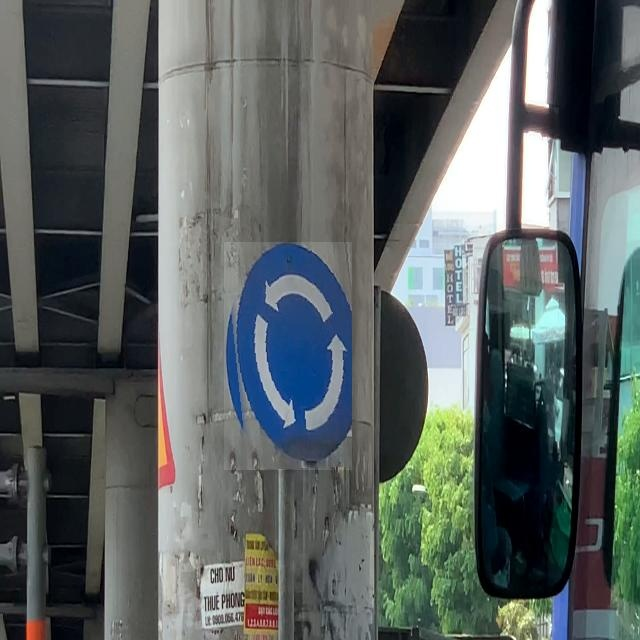bien_hieu_lenh: (224, 242, 352, 470)
